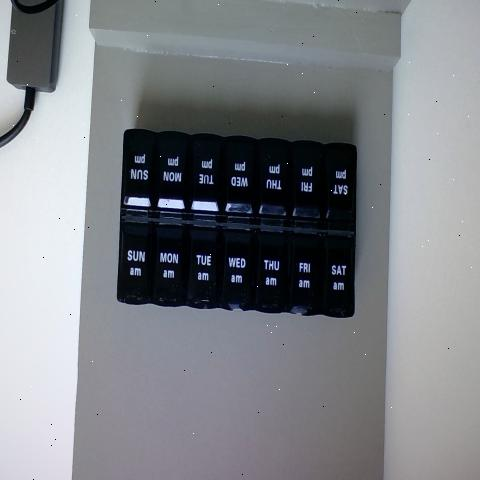FRI-am: (291, 232, 321, 314)
FRI-pm: (292, 143, 323, 227)
MON-am: (155, 223, 184, 307)
MON-pm: (154, 134, 188, 212)
PillBox: (100, 97, 379, 366)
SAT-am: (321, 227, 352, 313)
SAT-pm: (325, 147, 354, 227)
SUN-am: (118, 218, 150, 301)
SUN-pm: (123, 130, 151, 209)
THU-am: (256, 230, 289, 314)
THU-pm: (259, 142, 290, 224)
TUE-am: (187, 224, 218, 309)
TUE-pm: (190, 134, 220, 215)
WED-am: (220, 227, 254, 309)
WED-pm: (223, 138, 258, 223)
